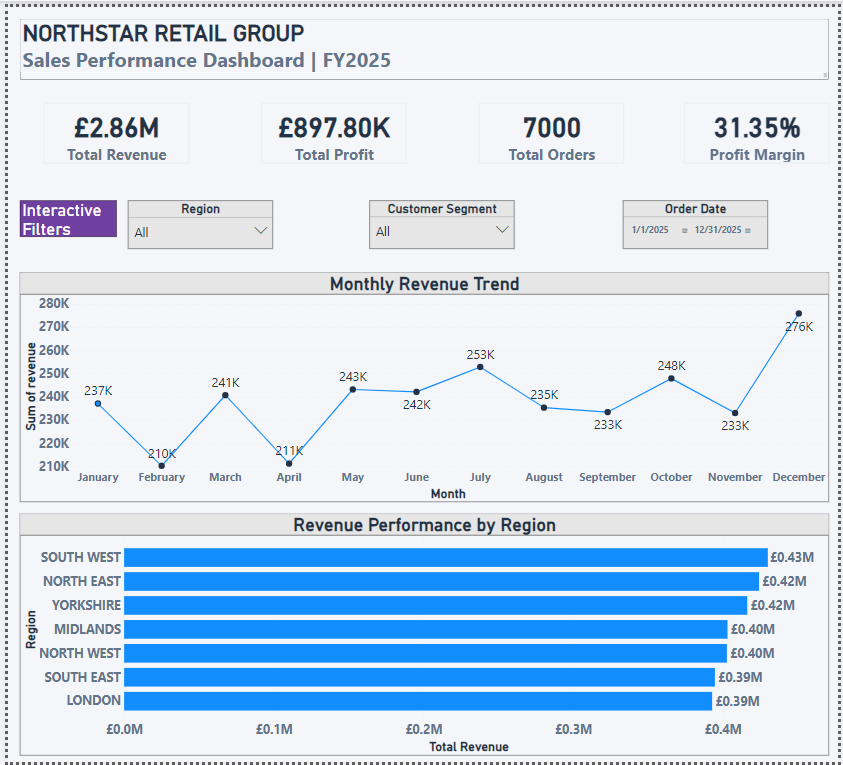

This screenshot's page, from the dashboard's own definition file:
{"tool":"powerbi","page":{"name":"Executive Overview","canvas":[2200,2000],"ordinal":0},"visuals":[{"type":"card","fields":{"Values":["sales.Total Revenue"]},"box":[96,256,384,160],"z":0},{"type":"lineChart","title":"Monthly Revenue Trend","fields":{"Category":["sales.order_date.Variation.Date Hierarchy.Year","sales.order_date.Variation.Date Hierarchy.Month"],"Y":["Sum(sales.revenue)"]},"box":[32,704,2144,608],"z":1000},{"type":"card","fields":{"Values":["sales.Total Profit"]},"box":[672,256,384,160],"z":2000},{"type":"clusteredBarChart","title":"Revenue Performance by Region","fields":{"Category":["sales.region"],"Y":["sales.Total Revenue"]},"box":[32,1344,2144,640],"z":3000},{"type":"slicer","title":"Region","fields":{"Values":["sales.region"]},"box":[320,512,384,128],"z":4000},{"type":"card","fields":{"Values":["sales.Total Orders"]},"box":[2208,352,384,160],"z":5000},{"type":"slicer","title":"Customer Segment","fields":{"Values":["sales.customer_segment"]},"box":[960,512,384,128],"z":6000},{"type":"slicer","title":"Order Date","fields":{"Values":["sales.order_date"]},"box":[1632,512,384,128],"z":7000},{"type":"textbox","title":"NORTHSTAR RETAIL GROUP","box":[32,32,2144,160],"z":8000},{"type":"card","fields":{"Values":["sales.Profit Margin"]},"box":[1792,256,384,160],"z":9000},{"type":"textbox","title":"Interactive Filters","box":[32,512,256,96],"z":10000},{"type":"card","fields":{"Values":["sales.Total Orders"]},"box":[1248,256,384,160],"z":11000}]}

Visuals, with their boxes in screenshot pixels (x1, y1, x2, y2), scaled from the page's 2200x2000 canvas onto the 843x765 screenshot:
card - sales.Total Revenue: 37,98,184,159
"Monthly Revenue Trend" lineChart: 12,269,834,502
card - sales.Total Profit: 257,98,405,159
"Revenue Performance by Region" clusteredBarChart: 12,514,834,759
"Region" slicer: 123,196,270,245
"Customer Segment" slicer: 368,196,515,245
"Order Date" slicer: 625,196,772,245
"NORTHSTAR RETAIL GROUP" textbox: 12,12,834,73
card - sales.Profit Margin: 687,98,834,159
"Interactive Filters" textbox: 12,196,110,233
card - sales.Total Orders: 478,98,625,159
